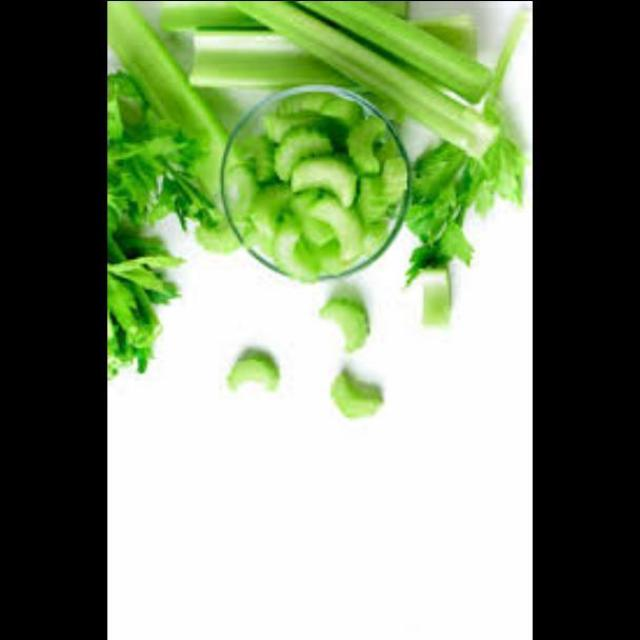celery: (150, 0, 498, 147), (221, 97, 411, 276), (106, 1, 241, 252), (408, 0, 531, 272), (106, 27, 180, 384), (318, 358, 386, 431), (214, 342, 284, 405), (406, 256, 453, 331), (318, 296, 375, 352)
